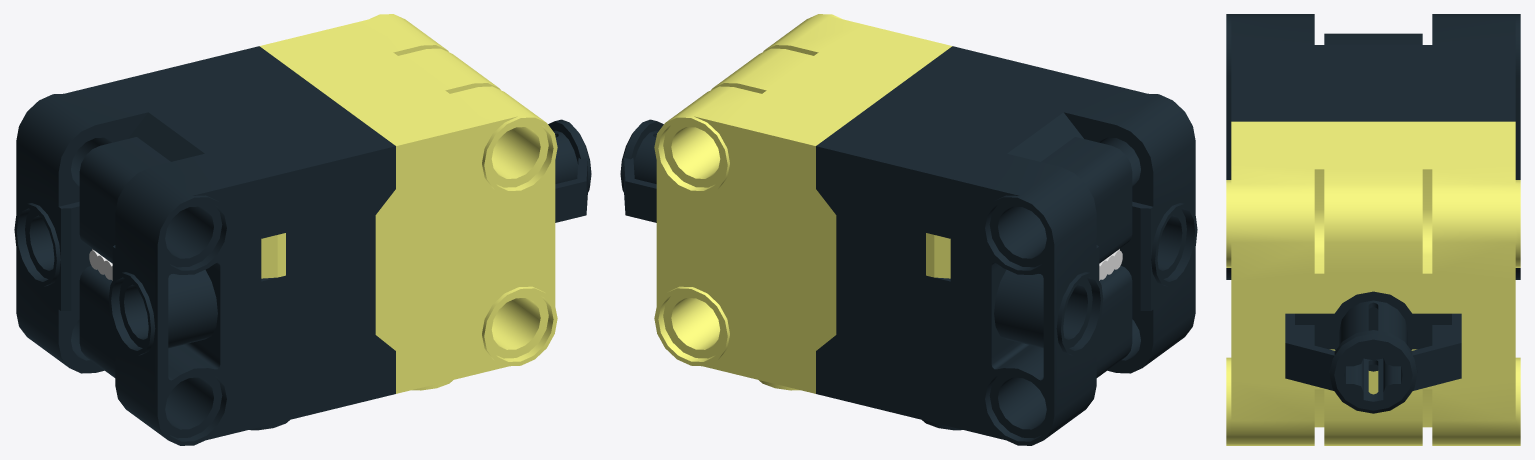
File: force-sensor.glb
The picture shows the model from 3 angles, left to right: view 1: azimuth 30°, elevation 25°; view 2: azimuth 150°, elevation 25°; view 3: azimuth 270°, elevation 25°; orthographic projection. The views are drawn at different scales.
Visible parts, largest first — view 1: u9463.dat, u9461.dat, u9460.dat, u9462.dat; view 2: u9463.dat, u9461.dat, u9460.dat, u9462.dat; view 3: u9461.dat, u9463.dat, u9462.dat.
Part boxes in pixels (box(x1,y1,x2,y2)): u9463.dat: box(14, 46, 395, 445); u9461.dat: box(259, 14, 557, 393); u9460.dat: box(79, 181, 116, 359); u9462.dat: box(548, 119, 591, 222); u9463.dat: box(816, 46, 1197, 445); u9461.dat: box(654, 14, 952, 393); u9460.dat: box(1095, 181, 1132, 359); u9462.dat: box(620, 119, 663, 222); u9461.dat: box(1226, 121, 1520, 445); u9463.dat: box(1226, 14, 1520, 279); u9462.dat: box(1285, 291, 1461, 413).
Bounding box in the file's own units: 4.8 × 2.36 × 2.4.
